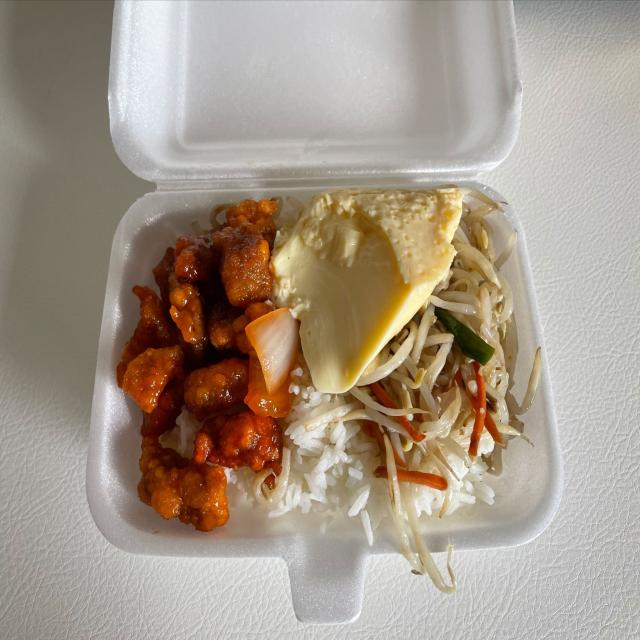Egg: (272, 189, 464, 393)
Non green veg: (340, 240, 541, 592)
Pork: (117, 200, 289, 530)
Rice: (225, 379, 391, 541), (431, 441, 494, 515), (161, 416, 199, 454), (403, 485, 445, 516)
